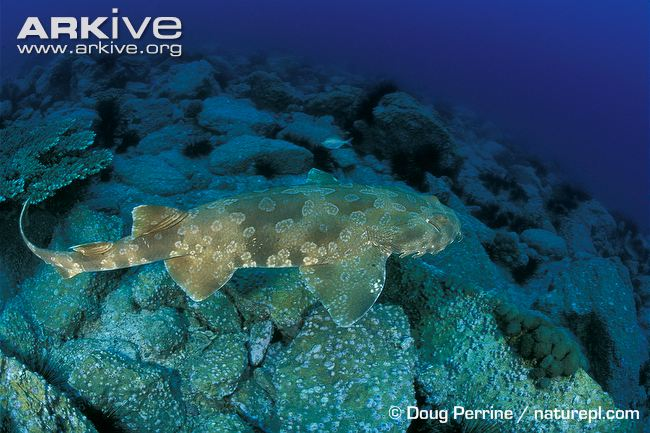shark: (17, 153, 507, 332)
